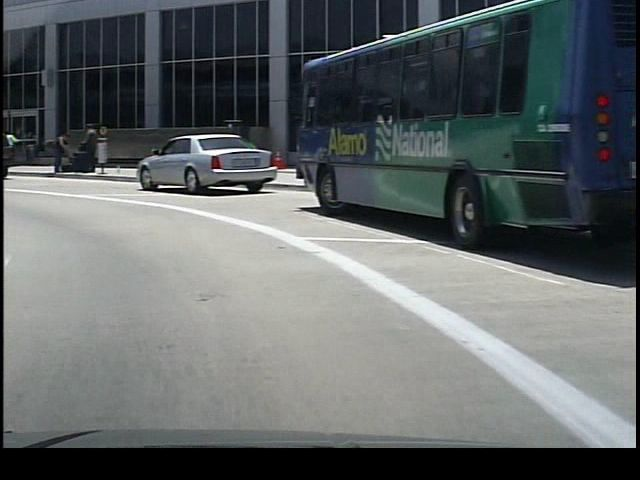person: (39, 125, 69, 179), (76, 122, 97, 176)
